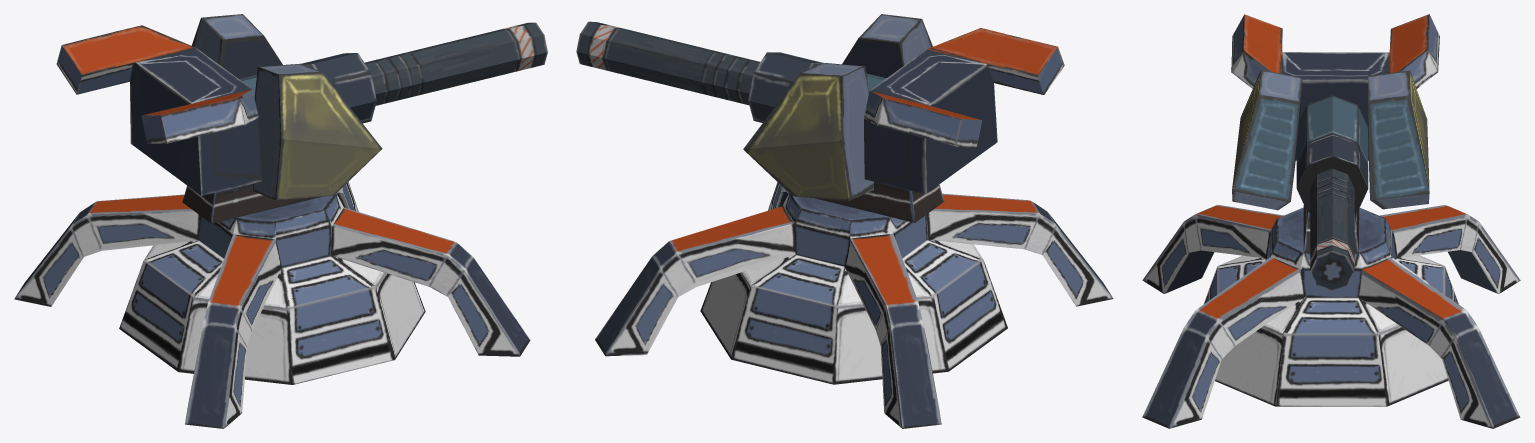
The model's file is turret.obj.
The picture shows the model from 3 angles, left to right: view 1: azimuth 30°, elevation 25°; view 2: azimuth 150°, elevation 25°; view 3: azimuth 270°, elevation 25°; orthographic projection. The views are drawn at different scales.
Parts seen in each view (by area): view 1: Cylinder; view 2: Cylinder; view 3: Cylinder.
Part boxes in pixels (box(x1,y1,x2,y2)): Cylinder: box(14, 14, 547, 428); Cylinder: box(576, 14, 1113, 428); Cylinder: box(1142, 14, 1520, 428).
Bounding box in the file's own units: 2.43 × 1.49 × 1.92.
1 material, 1 textured.
